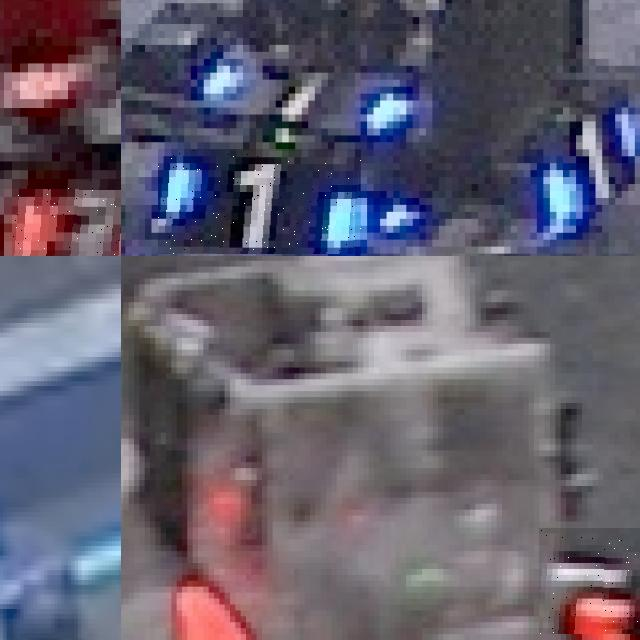B1: (158, 149, 361, 254)
R1: (539, 527, 640, 634)
R3: (12, 179, 121, 256)
